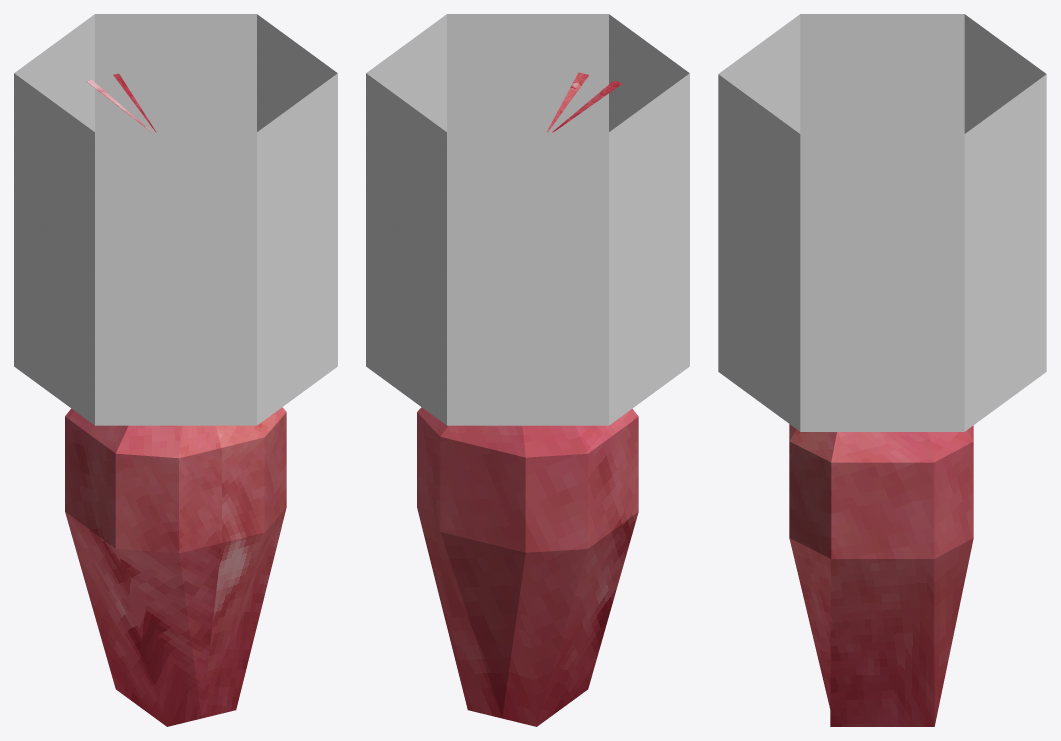
Rendered from lamp.glb.
3 views of the same model, side by side, from view 1: azimuth 30°, elevation 25°; view 2: azimuth 150°, elevation 25°; view 3: azimuth 270°, elevation 25° (orthographic).
Visible parts, largest first — view 1: Cylinder, Cube; view 2: Cylinder, Cube; view 3: Cylinder, Cube.
Boxes of the visible parts, bbox=[...] form: Cylinder: bbox=[14, 14, 337, 425]; Cube: bbox=[65, 73, 286, 726]; Cylinder: bbox=[366, 14, 689, 425]; Cube: bbox=[417, 72, 638, 726]; Cylinder: bbox=[718, 14, 1046, 431]; Cube: bbox=[789, 424, 973, 726].
Bounding box in the file's own units: 7.12 × 17.57 × 8.22.
Materials: 2 (1 with a texture image).
